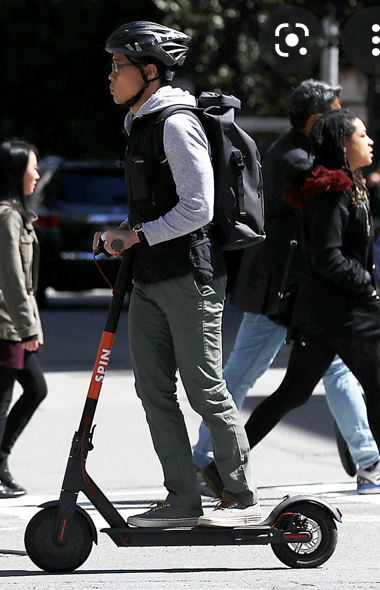scooter: (23, 230, 345, 578)
with helmet: (103, 19, 192, 110)
